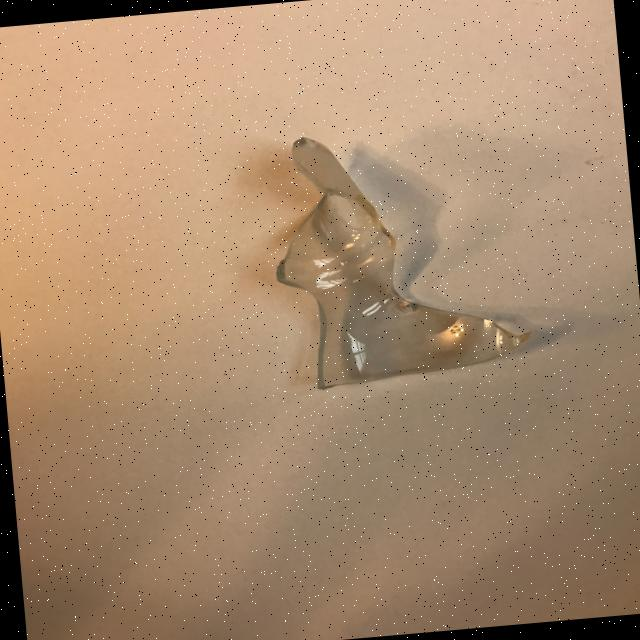glass: (190, 102, 566, 416)
